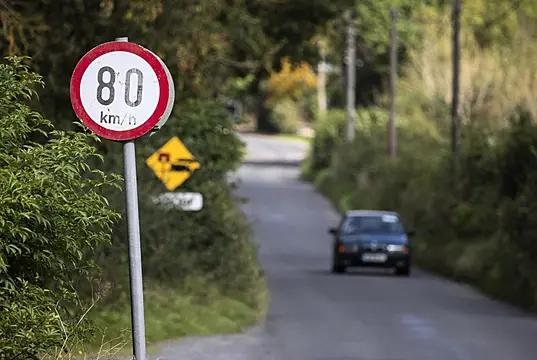car: (327, 202, 421, 282)
traffic sign: (56, 27, 192, 360)
